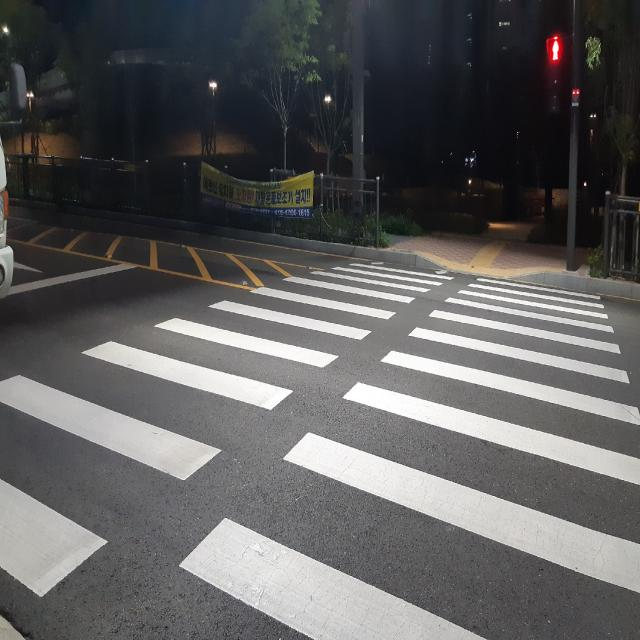빨간불: (546, 36, 566, 110)
횡단보도: (0, 260, 640, 639)
